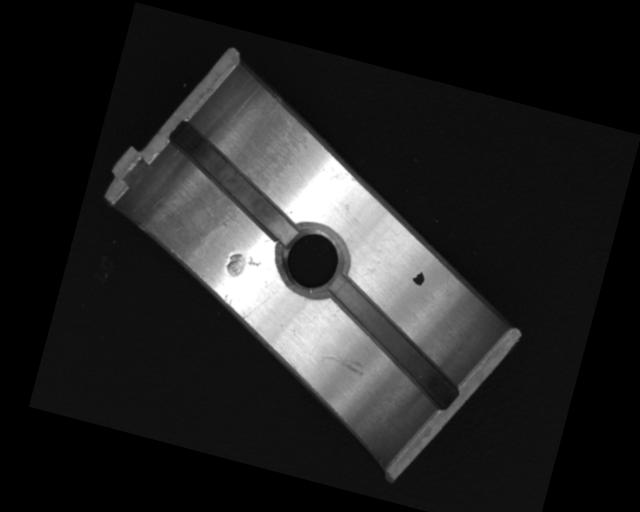blot: (410, 269, 426, 287)
bruise: (223, 249, 264, 284)
gap: (311, 274, 477, 411), (153, 120, 315, 244)
hole: (270, 216, 352, 303)
nick: (317, 350, 367, 378)
